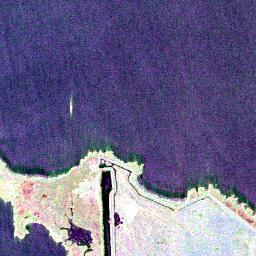Ship: (68, 91, 75, 119)
